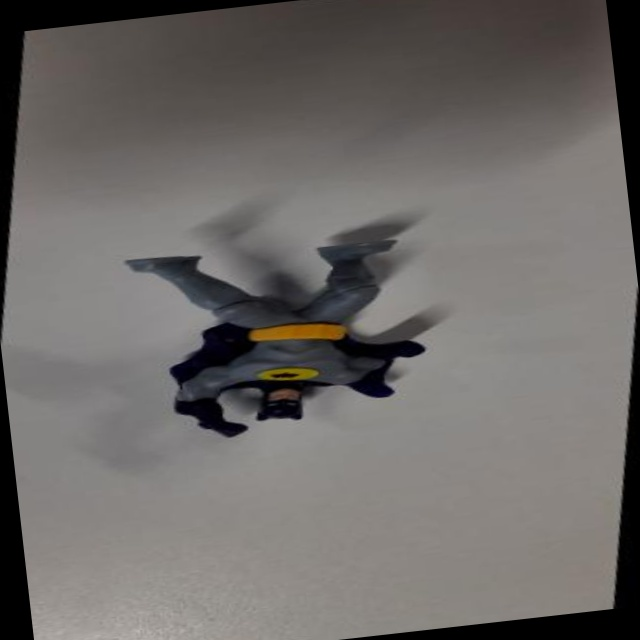Batman: (76, 199, 477, 467)
